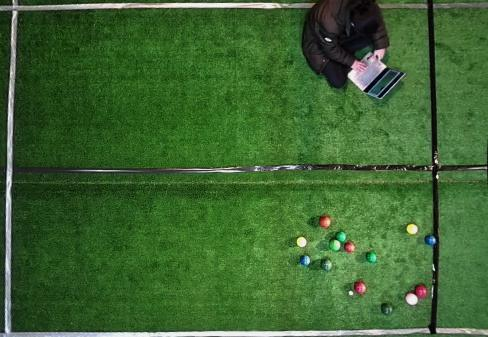blue: (300, 257, 310, 266), (426, 237, 436, 246)
green: (329, 241, 341, 252), (381, 304, 393, 315), (321, 261, 332, 271), (335, 233, 346, 243), (366, 253, 376, 263)
red: (354, 284, 366, 295), (406, 294, 417, 306), (319, 218, 331, 228), (416, 287, 427, 297), (345, 244, 355, 253)
vline: (426, 0, 487, 337), (0, 0, 19, 337)
white: (349, 292, 353, 297)
yellow: (406, 225, 418, 235), (297, 238, 306, 248)
